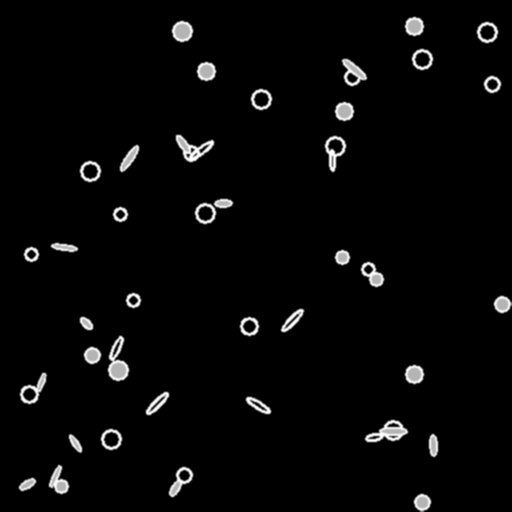pseudomonas: (187, 139, 215, 161), (118, 144, 140, 172), (280, 308, 304, 332), (145, 391, 169, 415), (341, 58, 367, 80), (245, 396, 271, 414), (108, 335, 124, 361), (174, 134, 192, 154), (48, 465, 62, 487), (78, 315, 94, 331), (68, 434, 82, 452), (168, 479, 182, 497), (35, 372, 47, 392), (19, 477, 35, 491), (380, 427, 406, 435), (51, 243, 77, 251), (365, 432, 383, 442), (429, 434, 437, 456), (329, 149, 335, 171), (215, 200, 231, 206)
synechocystis: (196, 204, 214, 222), (102, 430, 120, 448), (326, 137, 344, 155), (81, 162, 99, 180), (109, 361, 127, 379), (252, 90, 270, 108), (413, 50, 431, 68), (478, 23, 496, 41), (384, 421, 402, 439), (173, 22, 191, 40), (21, 386, 37, 402), (336, 103, 352, 119), (198, 63, 214, 79), (406, 18, 422, 34), (406, 366, 422, 382), (241, 318, 257, 334), (184, 146, 198, 160), (345, 70, 359, 84), (495, 297, 509, 311), (415, 495, 429, 509), (485, 77, 499, 91), (177, 468, 191, 482), (85, 348, 99, 362), (336, 251, 348, 263), (127, 294, 139, 306), (25, 248, 37, 260), (55, 480, 67, 492), (362, 263, 374, 275), (114, 208, 126, 220), (370, 273, 382, 285)
